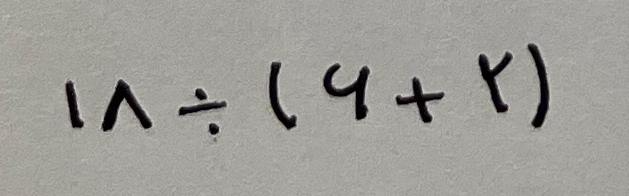character: (101, 79, 154, 133), (322, 62, 368, 123), (395, 77, 446, 126), (178, 88, 228, 135), (478, 50, 514, 112), (527, 43, 551, 129), (269, 61, 297, 129), (64, 79, 85, 130)
